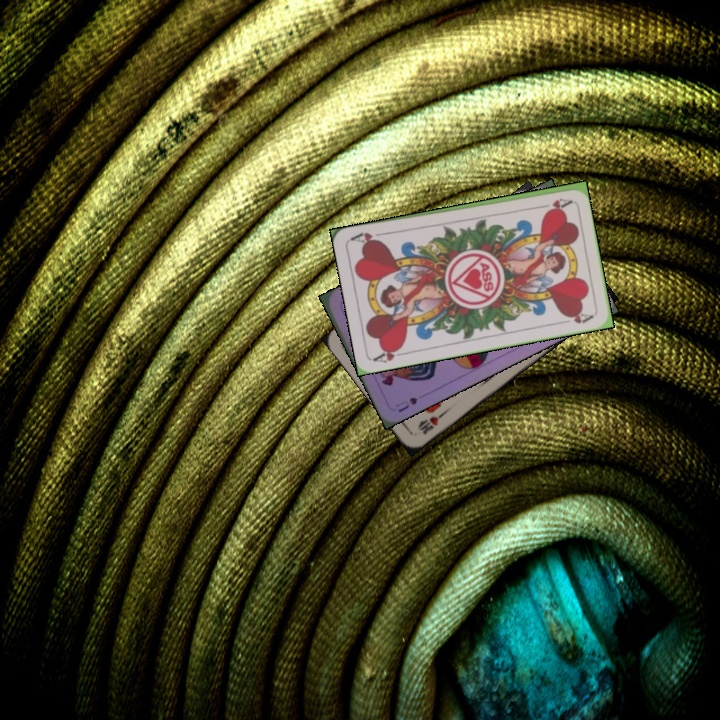H10: (414, 408, 448, 437)
HA: (370, 342, 410, 366), (533, 194, 573, 211)
SU: (392, 393, 420, 415)
